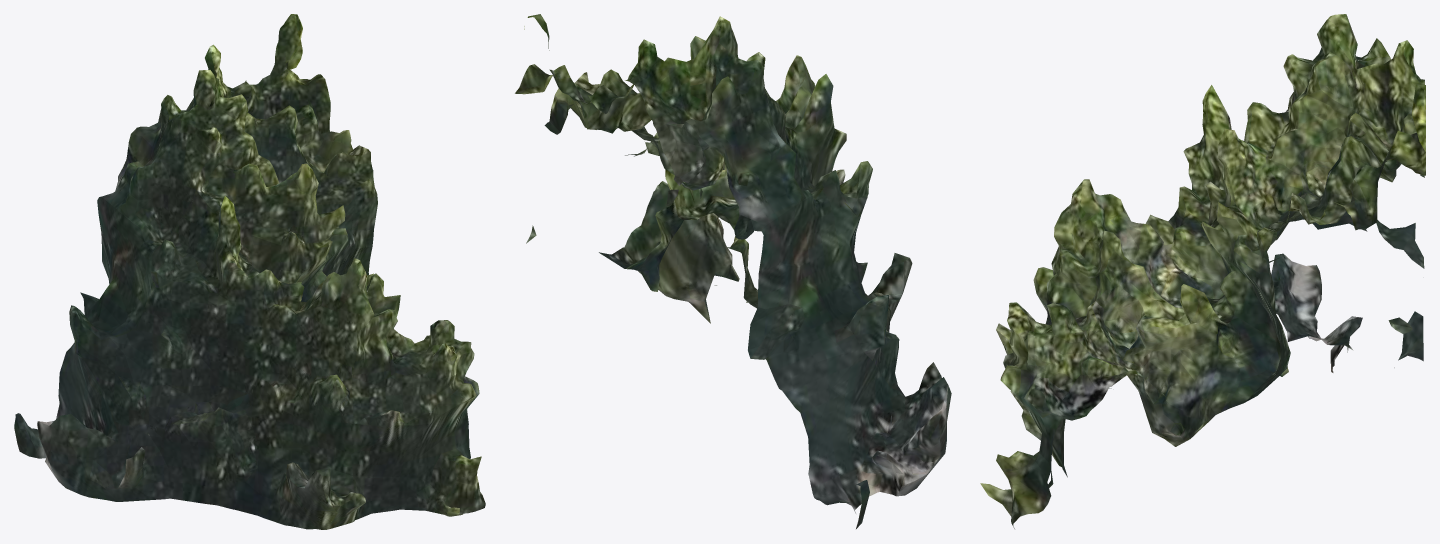
File: Tile_+006_+007_L22_0000340.glb
3 views of the same model, side by side, from view 1: azimuth 30°, elevation 25°; view 2: azimuth 150°, elevation 25°; view 3: azimuth 270°, elevation 25° (orthographic). The views are drawn at different scales.
Visible parts, largest first — view 1: rtc; view 2: rtc; view 3: rtc.
Part boxes in pixels (x1,y1,x2,y2): rtc: [14, 14, 485, 529]; rtc: [515, 14, 951, 528]; rtc: [980, 14, 1425, 528].
Size of the model in its own units: 5.62 by 6.27 by 5.81.
Materials: 1 (1 with a texture image).
